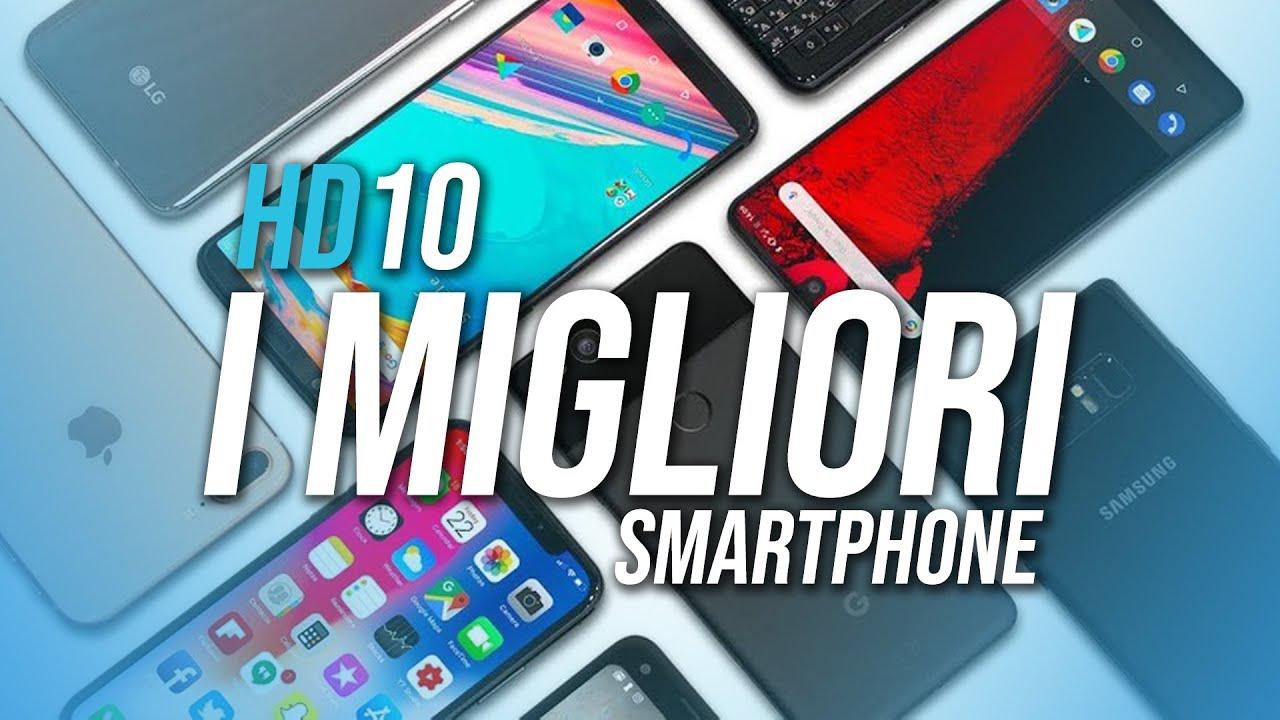Smartphone: (526, 263, 1027, 677), (189, 24, 756, 368), (759, 0, 1247, 314), (53, 437, 557, 720), (958, 292, 1280, 720), (0, 82, 273, 566), (18, 0, 462, 169)
